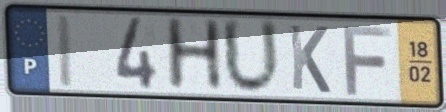4: (113, 15, 161, 93)
F: (339, 23, 394, 98)
H: (161, 15, 227, 93)
I: (54, 12, 77, 91)
K: (286, 21, 333, 96)
U: (219, 15, 284, 98)
